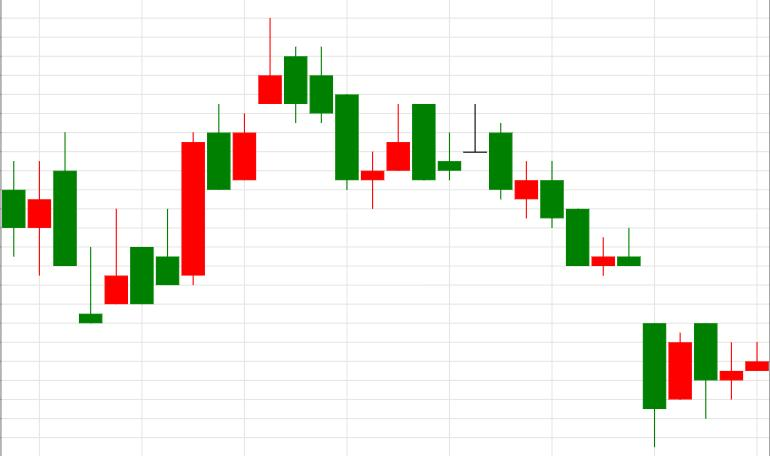shooting_star_fall: (104, 18, 282, 304)
